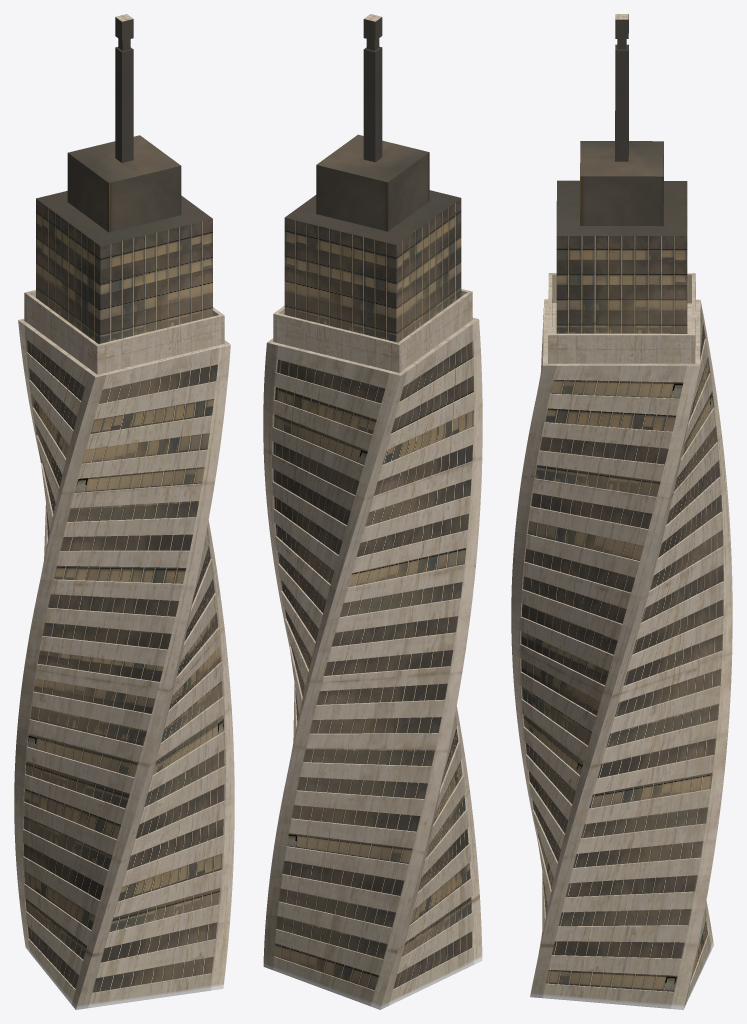
File: SpiralBuilding01.fbx
3 renders of one model, left to right at view 1: azimuth 30°, elevation 25°; view 2: azimuth 150°, elevation 25°; view 3: azimuth 270°, elevation 25°, orthographic.
Parts seen in each view (by area): view 1: SpiralBuilding; view 2: SpiralBuilding; view 3: SpiralBuilding.
Part boxes in pixels (x1,y1,x2,y2): SpiralBuilding: (14,14,234,1009); SpiralBuilding: (263,14,482,1009); SpiralBuilding: (511,14,732,1009).
Bounding box in the file's own units: 283 × 1345 × 283.
